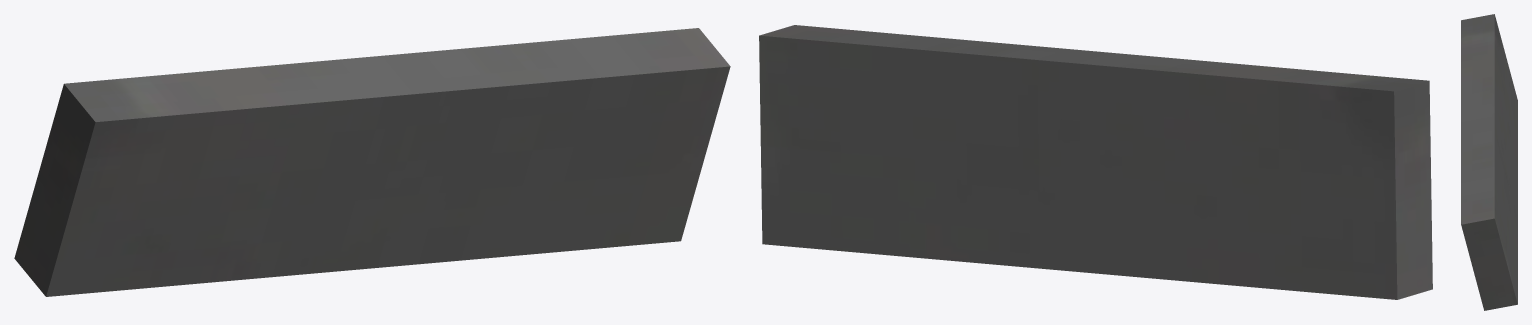
File: fan_center__blade_8.glb
3 views of the same model, side by side, from view 1: azimuth 30°, elevation 25°; view 2: azimuth 150°, elevation 25°; view 3: azimuth 270°, elevation 25° (orthographic). The views are drawn at different scales.
Parts seen in each view (by area): view 1: world; view 2: world; view 3: world.
Boxes of the visible parts, x1,y1,x2,y2 form: world: (14, 28, 730, 296); world: (759, 25, 1432, 299); world: (1461, 14, 1517, 310).
Bounding box in the file's own units: 0.0289 × 0.0124 × 0.00428.
Materials: 1 (1 with a texture image).
